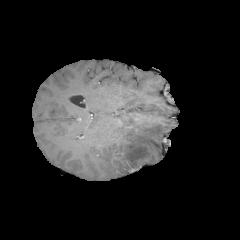glioma: (118, 112, 167, 167)
